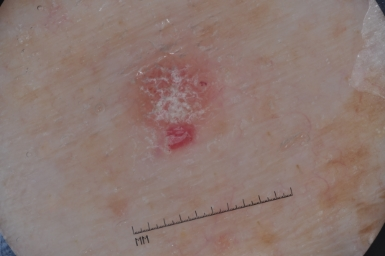seborrheic keratosis: (111, 42, 239, 161)
